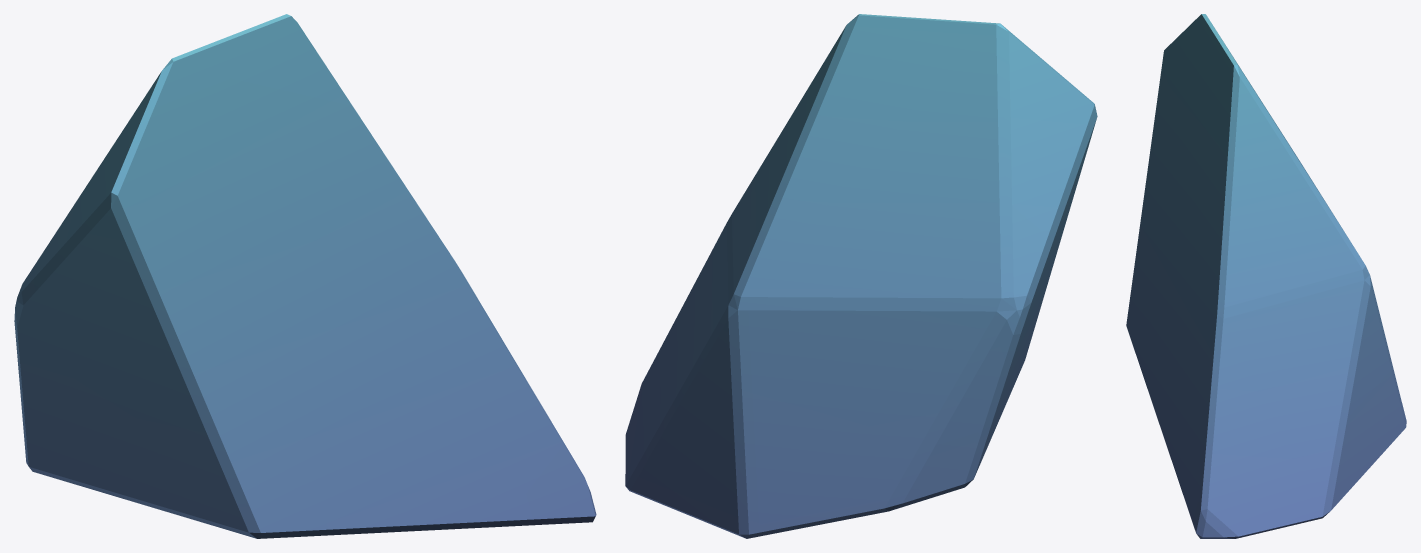
The model's file is cristal_estilhaco_1.fbx.
The picture shows the model from 3 angles, left to right: view 1: azimuth 30°, elevation 25°; view 2: azimuth 150°, elevation 25°; view 3: azimuth 270°, elevation 25°; orthographic projection. The views are drawn at different scales.
Parts seen in each view (by area): view 1: cristal_estilhaco_1; view 2: cristal_estilhaco_1; view 3: cristal_estilhaco_1.
Part boxes in pixels (left/top/right/bottom): cristal_estilhaco_1: left=14, top=14, right=596, bottom=538; cristal_estilhaco_1: left=625, top=14, right=1097, bottom=538; cristal_estilhaco_1: left=1126, top=14, right=1406, bottom=538.
Bounding box in the file's own units: 3.82 × 4.01 × 2.62.
